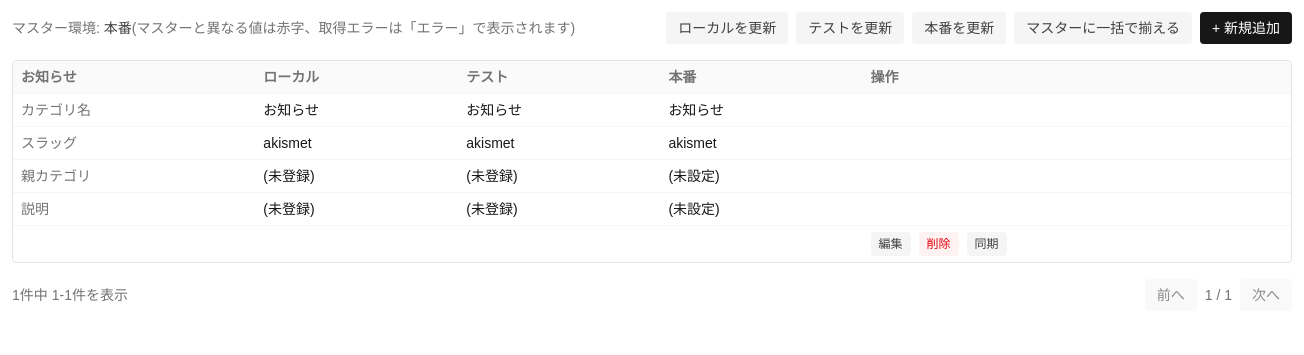
Test case: TermComparisonTable › 同期に失敗するとエラーメッセージを表示する
The image size is (1304, 355).
Click the button "同期": {"x": 986, "y": 244} x1=966 y1=232 x2=1006 y2=256
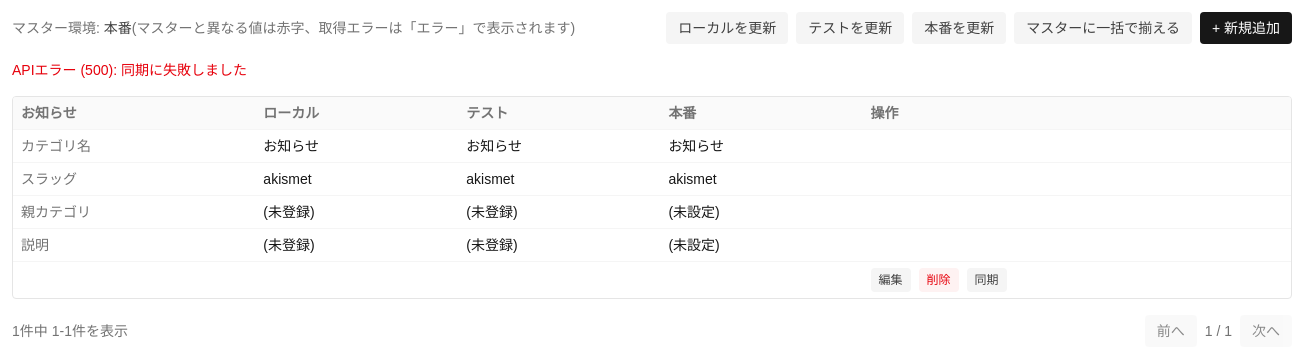
Result: the text "APIエラー (500): 同期に失敗しました" is shown at x1=12 y1=62 x2=247 y2=78
